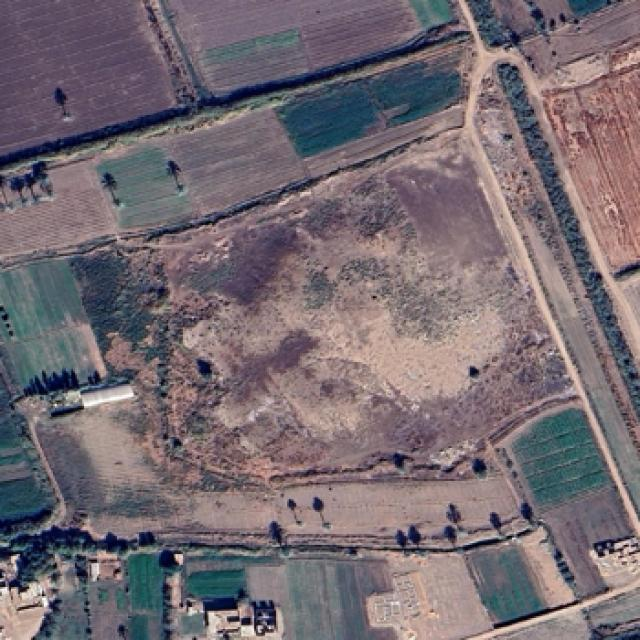artifacts: (3, 546, 78, 638)
ruins: (2, 2, 152, 82), (572, 89, 637, 254), (186, 117, 296, 207), (294, 481, 463, 526), (3, 186, 111, 256), (304, 3, 418, 68), (4, 324, 100, 395), (100, 145, 178, 206), (532, 441, 605, 499), (482, 552, 542, 618)
